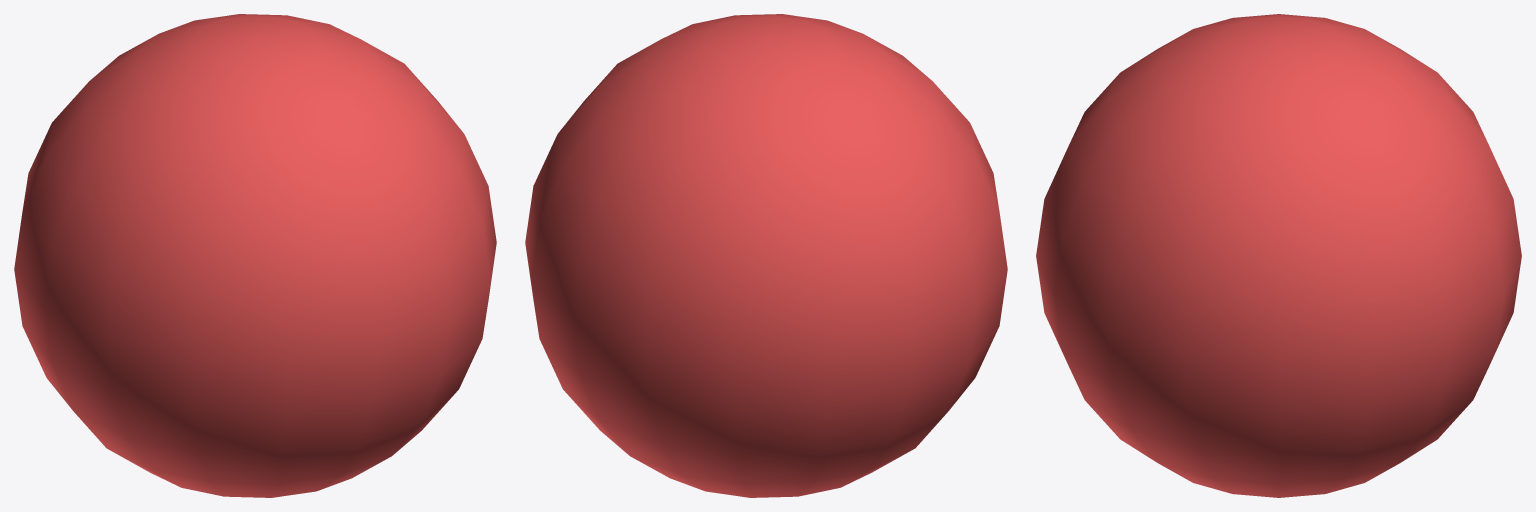
The model's file is apple.glb.
The picture shows the model from 3 angles, left to right: view 1: azimuth 30°, elevation 25°; view 2: azimuth 150°, elevation 25°; view 3: azimuth 270°, elevation 25°; orthographic projection.
Visible parts, largest first — view 1: Fruit; view 2: Fruit; view 3: Fruit.
Part boxes in pixels (x1,y1,x2,y2): Fruit: (14,14,496,497); Fruit: (525,14,1007,497); Fruit: (1036,14,1521,497).
Bounding box in the file's own units: 1 × 1 × 1.
